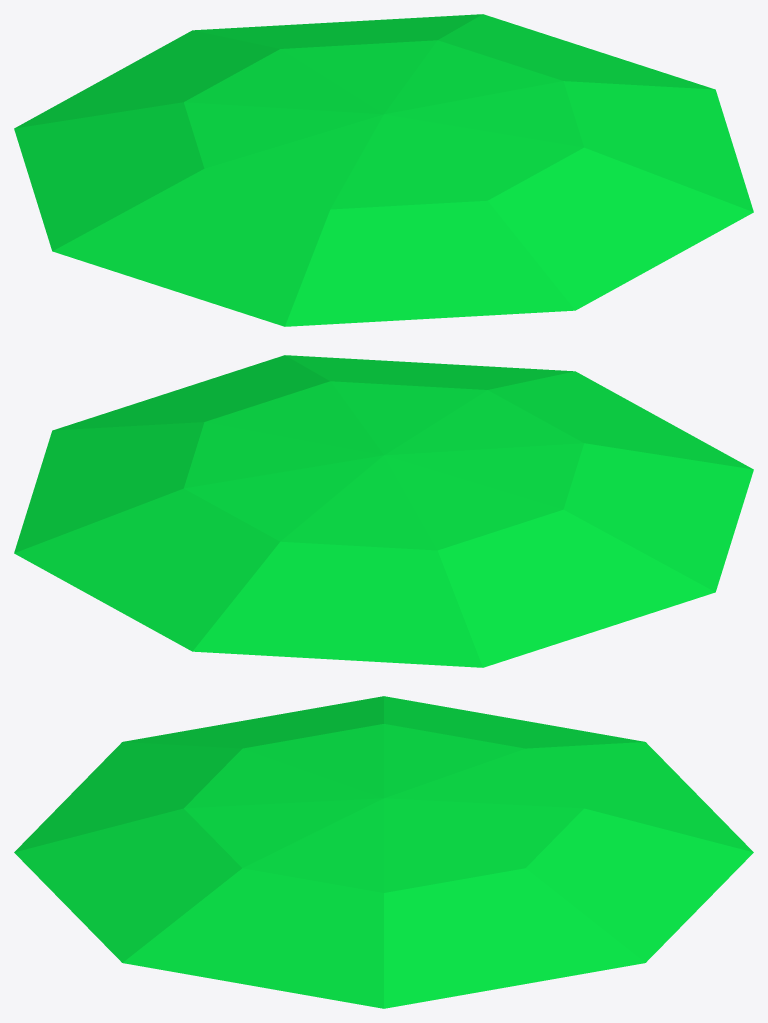
The model's file is Hill.glb.
The picture shows the model from 3 angles, top to bottom: view 1: azimuth 30°, elevation 25°; view 2: azimuth 150°, elevation 25°; view 3: azimuth 270°, elevation 25°; orthographic projection. The views are drawn at different scales.
Parts seen in each view (by area): view 1: Hill_1; view 2: Hill_1; view 3: Hill_1.
Part boxes in pixels (left/top/right/bottom): Hill_1: left=14, top=14, right=753, bottom=326; Hill_1: left=14, top=355, right=753, bottom=667; Hill_1: left=14, top=696, right=753, bottom=1008.
Bounding box in the file's own units: 14.85 × 1.2 × 14.85.
